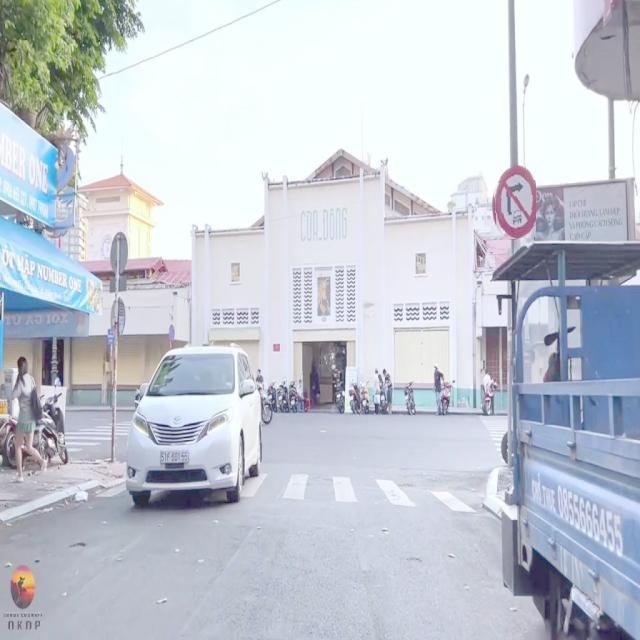cam_o_to_re_phai: (492, 160, 536, 240)
